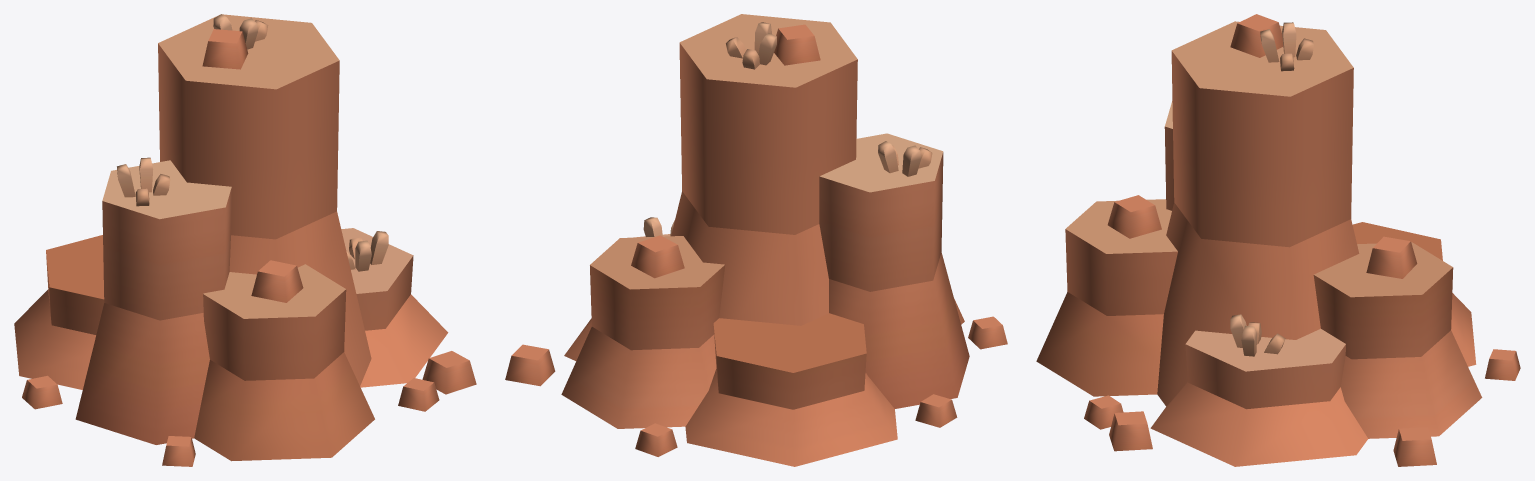
The model's file is pirate-rocks-sand-b.glb.
The picture shows the model from 3 angles, left to right: view 1: azimuth 30°, elevation 25°; view 2: azimuth 150°, elevation 25°; view 3: azimuth 270°, elevation 25°; orthographic projection. The views are drawn at different scales.
Visible parts, largest first — view 1: rocks-sand-b; view 2: rocks-sand-b; view 3: rocks-sand-b.
Part boxes in pixels (x1=…): rocks-sand-b: x1=14, y1=14, x2=476, y2=466; rocks-sand-b: x1=505, y1=14, x2=1007, y2=466; rocks-sand-b: x1=1036, y1=14, x2=1520, y2=466.
Size of the model in its own units: 4.38 by 3.71 by 4.71.
1 material, 1 textured.
